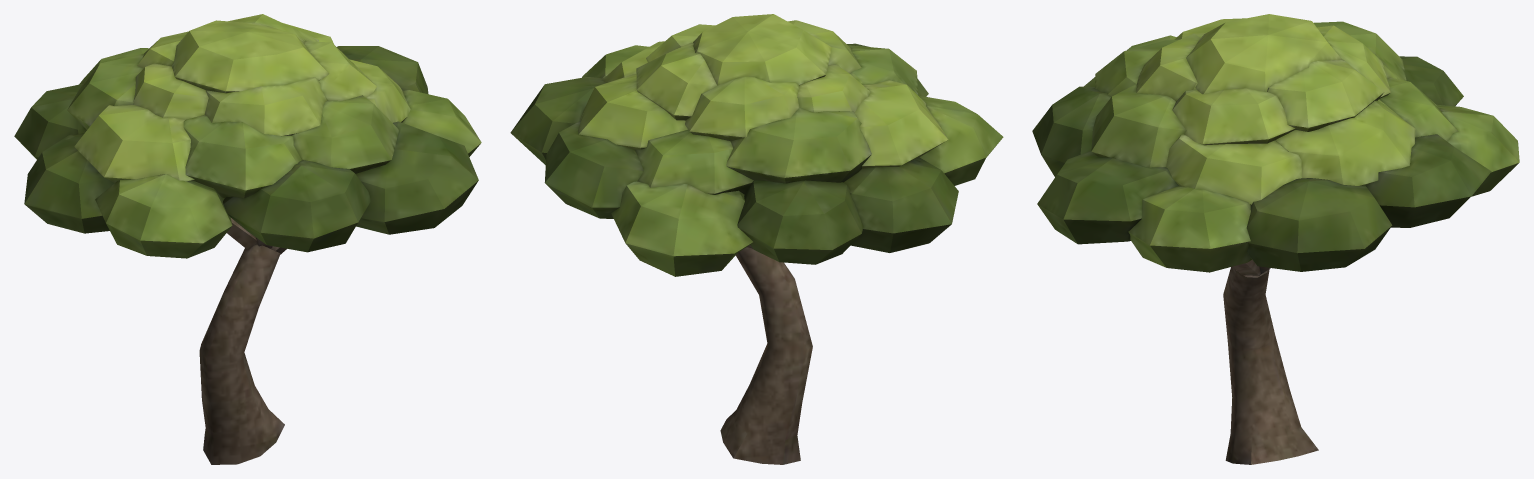
The model's file is tree_acacia.glb.
3 views of the same model, side by side, from view 1: azimuth 30°, elevation 25°; view 2: azimuth 150°, elevation 25°; view 3: azimuth 270°, elevation 25° (orthographic). The views are drawn at different scales.
Visible parts, largest first — view 1: Static_Mesh; view 2: Static_Mesh; view 3: Static_Mesh.
Part boxes in pixels (box(x1,y1,x2,y2)): Static_Mesh: box(14, 14, 481, 464); Static_Mesh: box(510, 14, 1003, 464); Static_Mesh: box(1032, 14, 1519, 464).
Bounding box in the file's own units: 6.75 × 6.62 × 6.67.
Materials: 1 (1 with a texture image).
